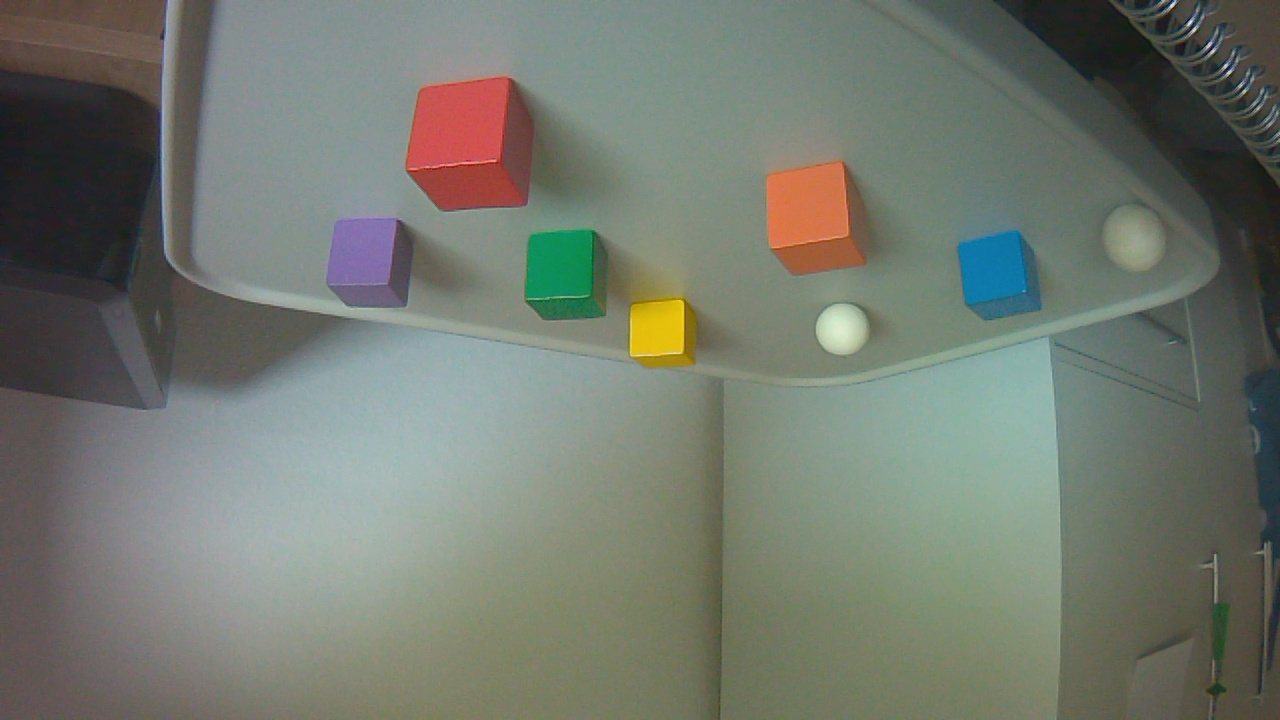ball: (1101, 205, 1176, 282), (817, 303, 877, 364)
cube_blue: (960, 234, 1049, 328)
cube_green: (526, 233, 616, 328)
cube_orange: (766, 161, 875, 283)
cube_purple: (329, 221, 419, 313)
cube_red: (406, 80, 543, 220)
cube_yellow: (630, 301, 704, 378)
